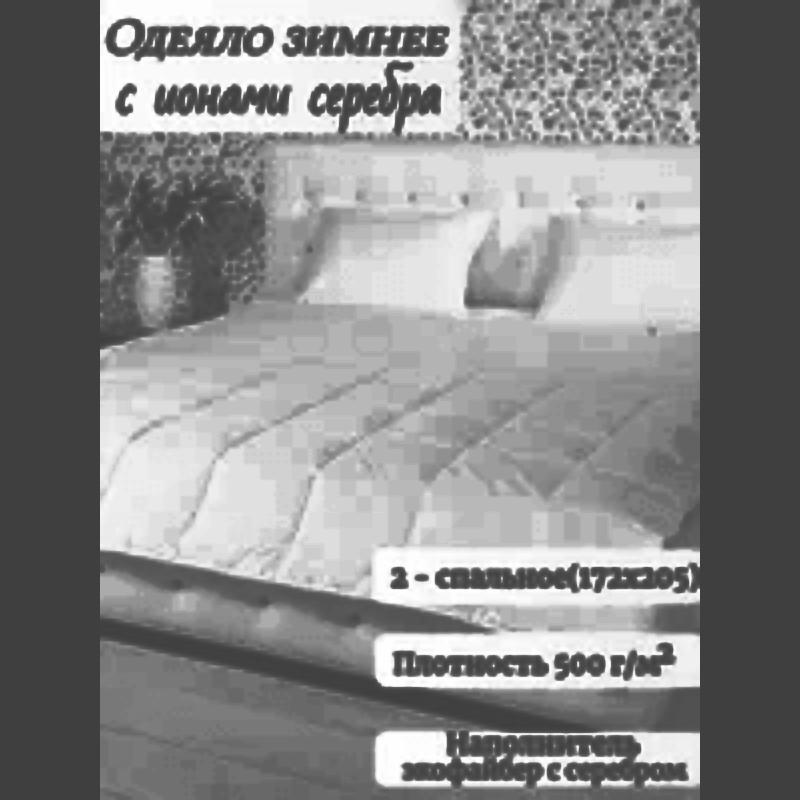pillow: (528, 200, 700, 352), (296, 199, 496, 321)
